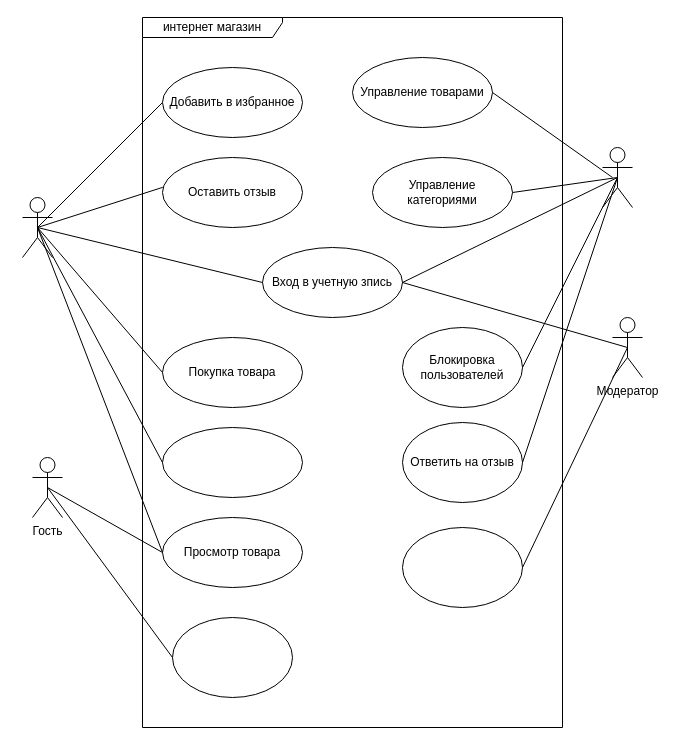
The diagram is 678 pixels wide and 745 high, and some of its shapes have lost their labels. Each missing label, with the centre of its shape:
Администратор: the point at 617,177
Зарегистрироваться: the point at 232,657
Клиент: the point at 37,227
Обработка жалоб: the point at 462,567
Писать жалобы: the point at 232,462
